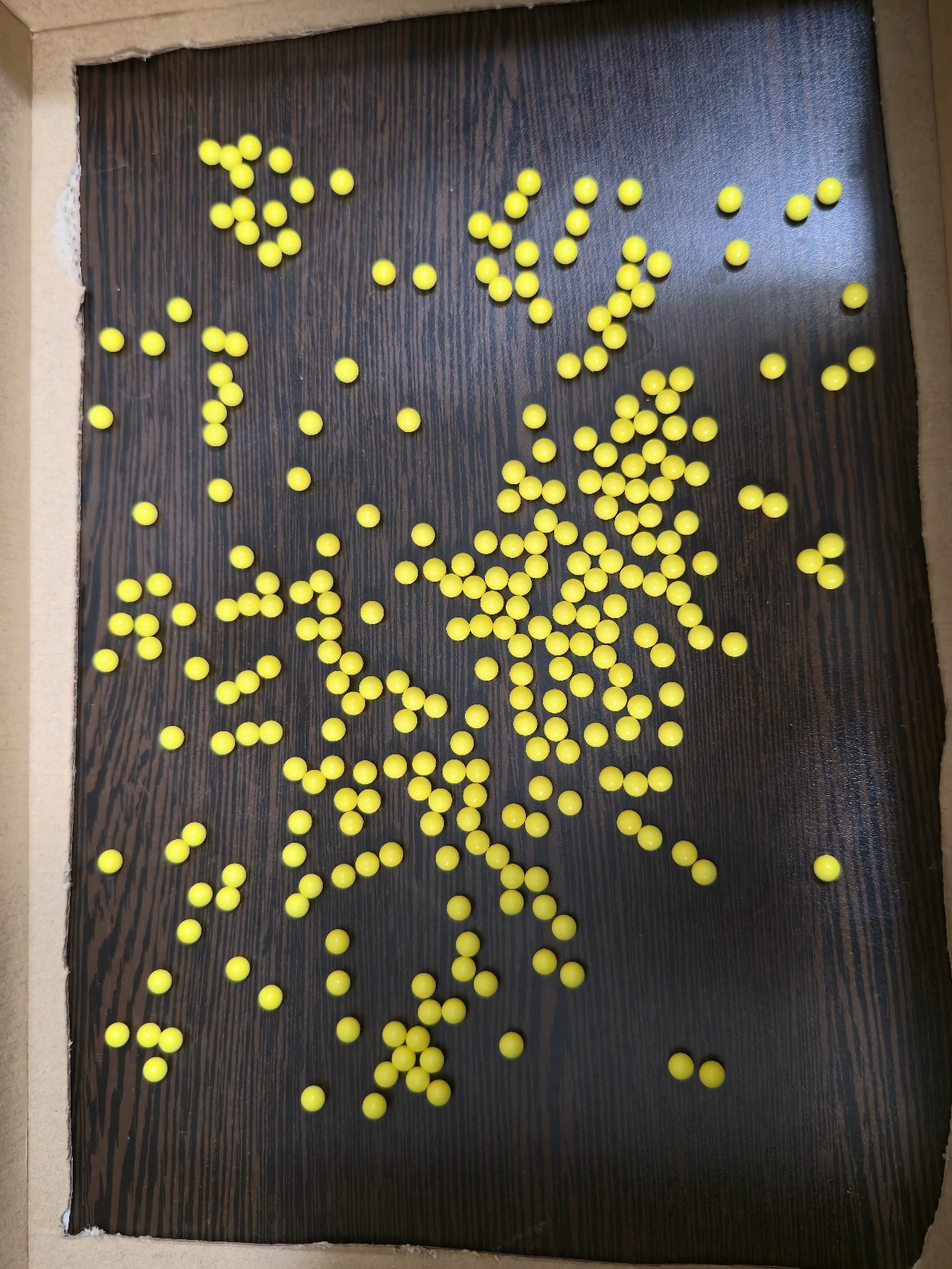yellow_bead: (205, 147, 248, 182), (481, 262, 506, 295), (213, 368, 236, 400), (208, 332, 240, 350), (489, 227, 506, 242), (263, 247, 277, 261), (162, 1034, 177, 1047), (653, 257, 666, 272), (216, 209, 231, 222), (572, 214, 584, 230), (820, 862, 834, 875), (170, 844, 184, 857), (803, 555, 817, 568), (607, 478, 620, 492), (613, 298, 626, 312), (731, 246, 744, 260), (208, 425, 220, 440), (637, 286, 649, 301), (521, 277, 533, 292), (208, 406, 219, 422), (629, 778, 642, 791), (142, 641, 155, 654), (661, 395, 674, 408), (675, 373, 688, 386), (828, 372, 841, 385), (855, 353, 868, 366), (241, 226, 254, 239), (792, 201, 805, 214), (143, 1029, 157, 1041), (823, 571, 837, 583), (824, 540, 838, 552), (563, 359, 575, 373), (534, 304, 546, 318), (521, 246, 533, 260), (628, 242, 640, 256), (282, 235, 294, 249), (474, 217, 486, 231), (624, 185, 636, 199), (823, 184, 835, 198), (580, 184, 592, 198), (335, 175, 347, 189), (623, 269, 634, 284), (153, 976, 166, 988), (231, 963, 244, 975), (222, 891, 234, 904), (463, 813, 475, 826), (665, 689, 678, 701), (672, 588, 685, 600), (662, 536, 675, 548), (620, 517, 633, 529), (680, 516, 692, 529), (744, 492, 757, 504), (654, 483, 667, 495), (690, 468, 703, 480), (666, 461, 679, 473), (621, 401, 633, 414), (340, 364, 353, 376), (767, 360, 779, 373), (146, 337, 158, 350), (105, 334, 118, 346), (608, 330, 620, 343), (173, 303, 185, 316), (268, 208, 280, 221), (724, 193, 736, 206), (263, 727, 277, 738), (114, 619, 128, 630), (768, 500, 782, 511), (378, 265, 389, 279), (296, 183, 307, 197), (242, 729, 257, 739), (242, 600, 257, 610), (149, 1064, 161, 1076), (111, 1029, 123, 1041), (332, 977, 344, 989), (530, 873, 542, 885), (492, 851, 504, 863), (644, 832, 656, 844), (187, 829, 199, 841), (654, 774, 666, 786), (665, 728, 677, 740), (550, 724, 562, 736), (634, 701, 646, 713), (609, 693, 621, 705), (729, 639, 741, 651), (534, 622, 546, 634), (140, 620, 152, 632), (582, 611, 594, 623), (512, 602, 524, 614), (649, 579, 661, 591), (590, 574, 602, 586), (605, 556, 617, 568), (589, 538, 601, 550), (560, 527, 572, 539), (540, 515, 552, 527), (547, 486, 559, 498), (631, 485, 643, 497), (525, 482, 537, 494), (584, 476, 596, 488), (628, 460, 640, 472), (648, 446, 660, 458), (699, 423, 711, 435), (669, 422, 681, 434), (94, 411, 106, 423), (590, 353, 602, 365), (307, 1092, 318, 1105), (264, 992, 277, 1003), (183, 926, 196, 937), (193, 890, 206, 901), (228, 870, 239, 883), (103, 856, 116, 867), (222, 687, 235, 698), (99, 655, 112, 666), (302, 623, 315, 634), (176, 609, 189, 620), (263, 600, 276, 611), (666, 561, 679, 572), (638, 539, 651, 550), (601, 501, 612, 514), (213, 485, 226, 496), (594, 312, 605, 325), (222, 605, 236, 615), (419, 269, 429, 283), (457, 964, 469, 975), (538, 902, 550, 913), (292, 899, 303, 911), (506, 896, 517, 908), (305, 881, 317, 892), (338, 871, 350, 882), (698, 867, 710, 878), (361, 859, 373, 870), (289, 849, 300, 861), (385, 849, 396, 861), (426, 817, 437, 829), (346, 817, 357, 829), (564, 797, 575, 809), (363, 796, 375, 807), (605, 774, 617, 785), (327, 762, 338, 774), (590, 730, 602, 741), (623, 722, 634, 734), (399, 716, 411, 727), (516, 692, 527, 704), (576, 680, 588, 691), (332, 677, 344, 688), (615, 670, 627, 681), (516, 669, 527, 681), (480, 664, 492, 675), (555, 663, 566, 675), (599, 652, 611, 663), (657, 650, 669, 661), (515, 640, 526, 652), (551, 638, 563, 649), (695, 632, 707, 643), (640, 631, 652, 642), (602, 626, 614, 637), (323, 623, 335, 634), (498, 623, 510, 634), (559, 607, 570, 619), (486, 597, 498, 608), (567, 586, 579, 597), (468, 582, 480, 593), (446, 579, 457, 591), (152, 579, 164, 590), (514, 579, 526, 590), (625, 571, 637, 582), (457, 560, 469, 571), (699, 558, 711, 569), (506, 541, 518, 552), (530, 537, 541, 549), (644, 510, 656, 521), (503, 495, 514, 507), (508, 467, 520, 478), (599, 449, 611, 460), (539, 444, 550, 456), (617, 424, 628, 436), (304, 417, 315, 429), (640, 417, 652, 428), (529, 411, 540, 423), (849, 291, 861, 302), (216, 738, 229, 748), (240, 677, 253, 687), (647, 376, 657, 389), (453, 903, 464, 914), (442, 853, 453, 864), (472, 838, 483, 849), (531, 820, 542, 831), (294, 817, 305, 828), (434, 795, 445, 806), (414, 783, 425, 794), (359, 767, 370, 778), (472, 766, 483, 777), (562, 747, 573, 758), (532, 744, 543, 755), (456, 738, 467, 749), (166, 733, 177, 744), (520, 719, 531, 730), (471, 711, 482, 722), (549, 696, 560, 707), (365, 682, 376, 693), (576, 639, 587, 650), (685, 610, 696, 621), (610, 601, 621, 612), (262, 578, 273, 589), (316, 576, 327, 587), (491, 573, 502, 584), (429, 565, 440, 576), (573, 558, 584, 569), (403, 415, 414, 426), (343, 1024, 353, 1036), (424, 1006, 434, 1018), (418, 980, 428, 992), (480, 978, 490, 990), (462, 939, 472, 951), (559, 922, 569, 934), (507, 871, 517, 883), (623, 819, 635, 829), (448, 767, 460, 777), (289, 764, 301, 774), (190, 664, 202, 674), (324, 646, 334, 658), (453, 624, 465, 634), (295, 588, 307, 598), (123, 586, 135, 596), (531, 560, 541, 572), (235, 552, 247, 562), (140, 507, 150, 519), (293, 473, 303, 485), (581, 433, 591, 445), (274, 153, 282, 167), (369, 1102, 379, 1113), (566, 971, 577, 981), (332, 937, 342, 948), (508, 811, 518, 822), (469, 791, 480, 801), (535, 783, 545, 794), (308, 777, 318, 788), (390, 761, 400, 772), (419, 758, 429, 769), (430, 701, 440, 712), (347, 698, 357, 709), (408, 694, 419, 704), (346, 658, 356, 669), (480, 538, 491, 548), (417, 530, 428, 540), (242, 144, 253, 154), (679, 848, 688, 860), (340, 794, 349, 806), (388, 1028, 396, 1041), (506, 1042, 516, 1052), (448, 1008, 458, 1018), (328, 725, 338, 735), (324, 598, 334, 608), (401, 568, 411, 578), (322, 540, 332, 550), (363, 511, 373, 521), (425, 1058, 436, 1067), (392, 678, 403, 687), (263, 663, 274, 672), (475, 623, 486, 632), (367, 608, 376, 618), (234, 205, 245, 213), (510, 201, 518, 212), (523, 176, 534, 184), (675, 1064, 684, 1073), (380, 1071, 388, 1081), (539, 958, 547, 968), (412, 1077, 420, 1086), (560, 252, 572, 258), (434, 1091, 441, 1099), (398, 1056, 403, 1064), (412, 1035, 416, 1041), (232, 212, 234, 213)
